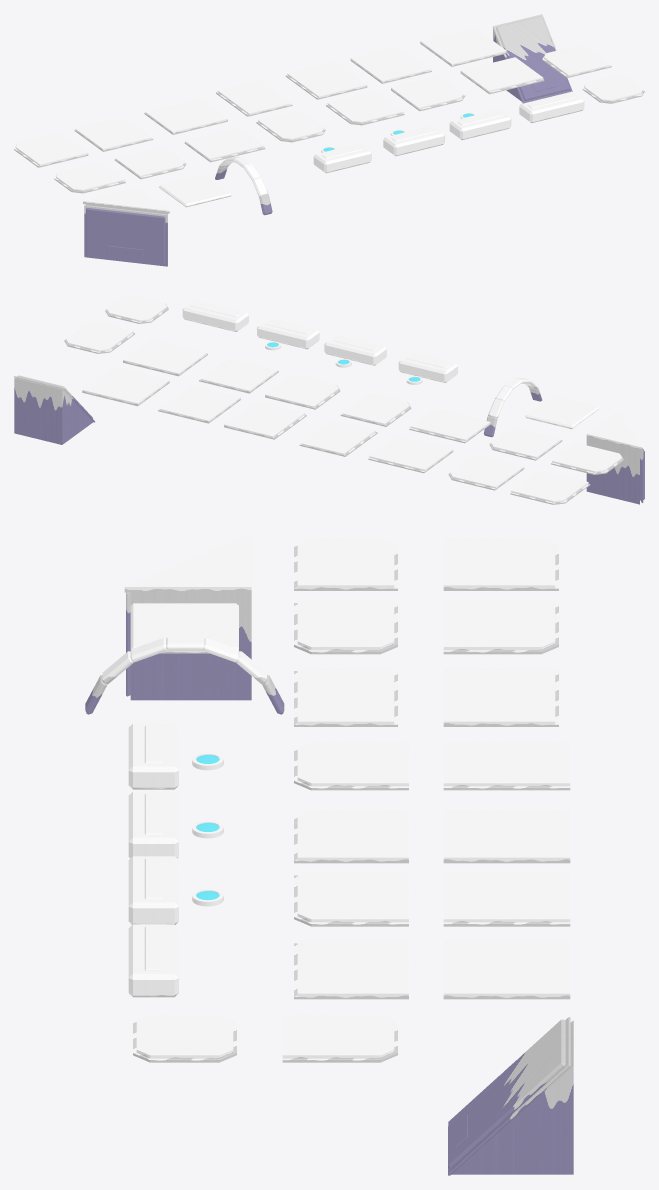
The model's file is R4H_HullKit.glb.
3 views of the same model, one above another, from view 1: azimuth 30°, elevation 25°; view 2: azimuth 150°, elevation 25°; view 3: azimuth 270°, elevation 25° (orthographic). The views are drawn at different scales.
Parts seen in each view (by area): view 1: cheek, ramp, plate_15, plate_07, plate_13, plate_11, plate_14, plate_05, plate_03, plate_06, plate_09, plate_12 (+12 smaller); view 2: ramp, cheek, plate_15, plate_11, plate_13, plate_07, plate_14, plate_09, plate_03, plate_10, plate_12, plate_05 (+12 smaller); view 3: ramp, cheek, plate_15, plate_14, plate_13, plate_07, plate_11, plate_10, plate_12, plate_06, plate_05, plate_03 (+12 smaller).
Part boxes in pixels (x1,y1,x2,y2): cheek: (83, 187, 169, 266); ramp: (493, 14, 572, 103); plate_15: (420, 27, 506, 66); plate_07: (460, 57, 544, 94); plate_13: (285, 61, 367, 99); plate_11: (144, 98, 227, 134); plate_14: (350, 46, 431, 83); plate_05: (326, 91, 404, 125); plate_03: (184, 128, 265, 162); plate_06: (391, 76, 465, 111); plate_09: (14, 132, 88, 167); plate_12: (216, 80, 292, 116); ramp: (14, 375, 94, 444); cheek: (586, 410, 644, 504); plate_15: (82, 366, 169, 406); plate_11: (368, 435, 453, 473); plate_13: (224, 401, 306, 439); plate_07: (123, 339, 207, 376); plate_14: (158, 385, 240, 423); plate_09: (510, 470, 590, 504); plate_03: (409, 408, 491, 443); plate_10: (448, 454, 524, 490); plate_12: (299, 420, 377, 456); plate_05: (265, 374, 340, 409); ramp: (448, 1017, 573, 1175); cheek: (124, 533, 251, 700); plate_15: (443, 940, 570, 999); plate_14: (443, 872, 570, 926); plate_13: (443, 810, 570, 863); plate_07: (294, 940, 408, 999); plate_11: (443, 668, 558, 726); plate_10: (443, 600, 558, 654); plate_12: (443, 742, 570, 790); plate_06: (294, 872, 408, 926); plate_05: (294, 810, 408, 863); plate_03: (294, 668, 397, 726).
Size of the model in its own units: 5.41 by 0.7208 by 2.12.
4 materials, 3 textured.
